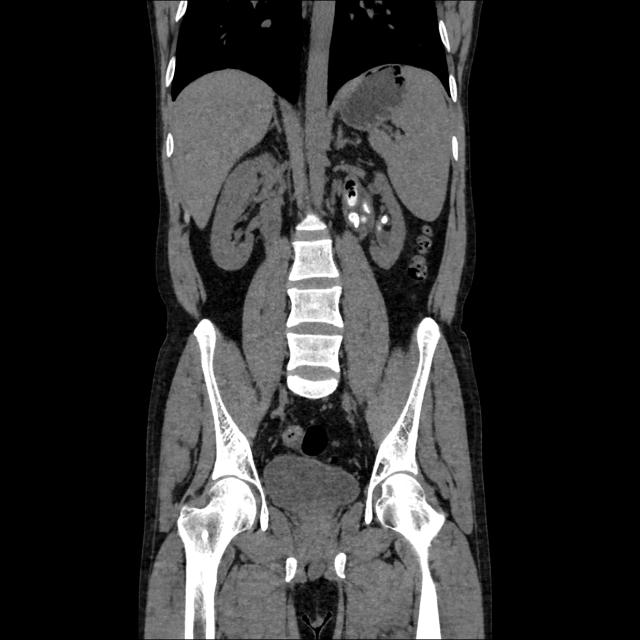kidneystone: (349, 211, 360, 228), (345, 181, 356, 197), (362, 201, 371, 214)
